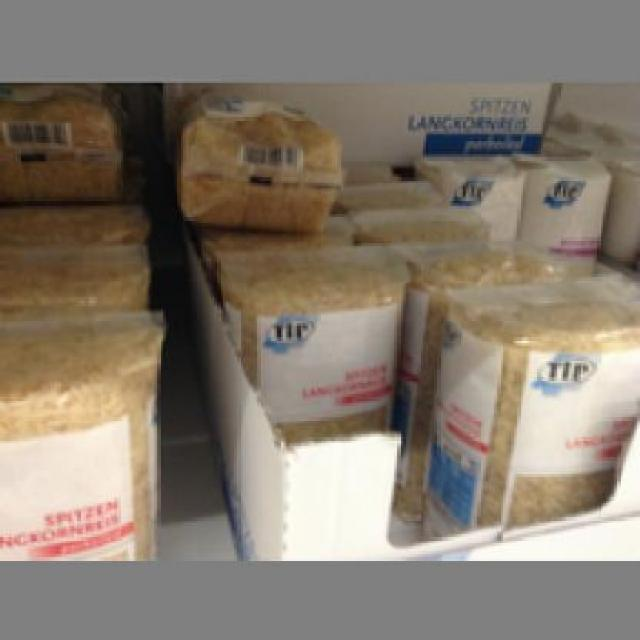Rice: (414, 280, 637, 534), (210, 236, 404, 449), (0, 305, 160, 558), (171, 88, 340, 225), (0, 81, 132, 198)
